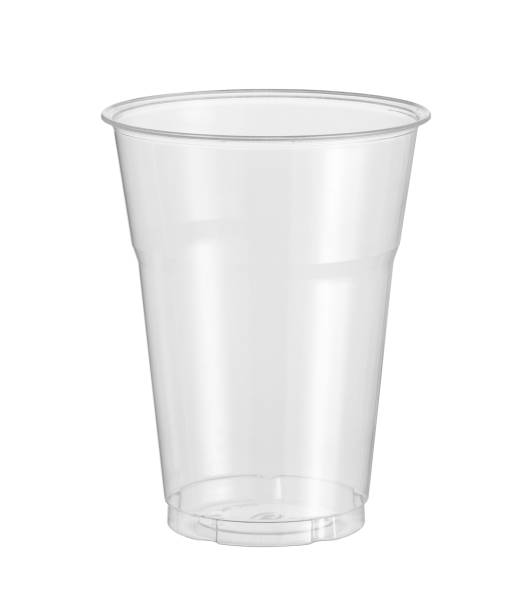plastic_bottle: (95, 81, 441, 569)
